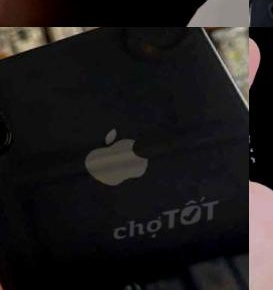physical_damage: (249, 114, 273, 172)
scratch: (0, 82, 20, 135), (249, 0, 273, 27)
